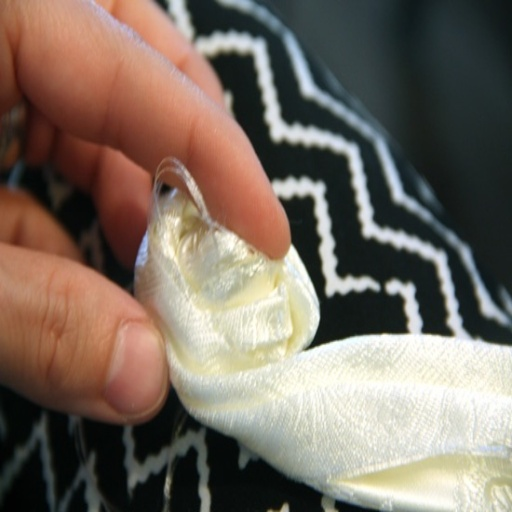hand: (0, 0, 287, 424)
